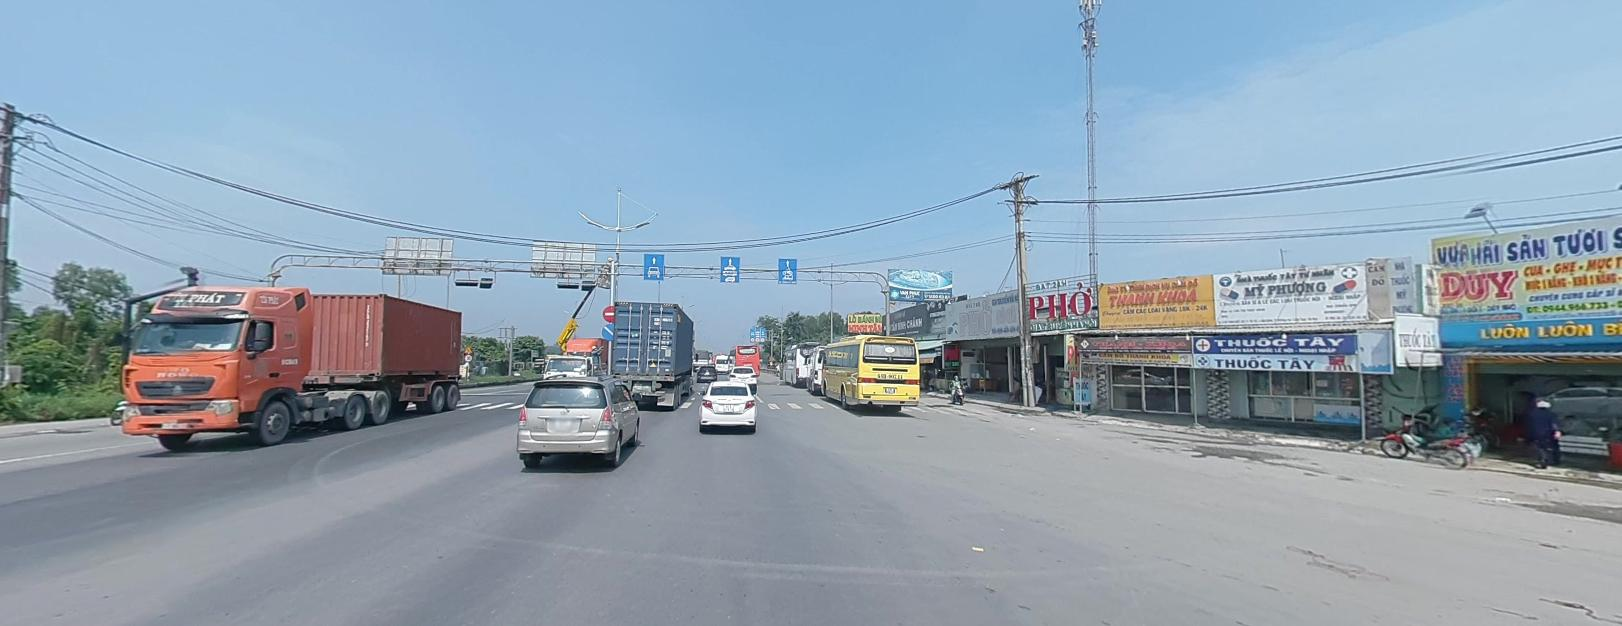Cam nguoc chieu: (602, 304, 620, 322), (602, 304, 621, 321), (602, 304, 618, 320)
Hieu lenh: (602, 322, 620, 340), (601, 321, 618, 338), (601, 322, 617, 339)
